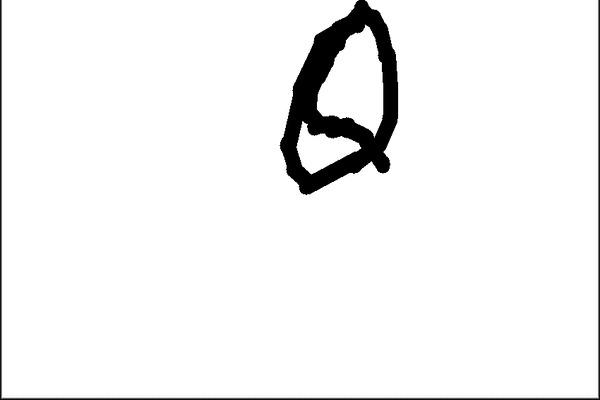Q: (264, 3, 402, 196)
